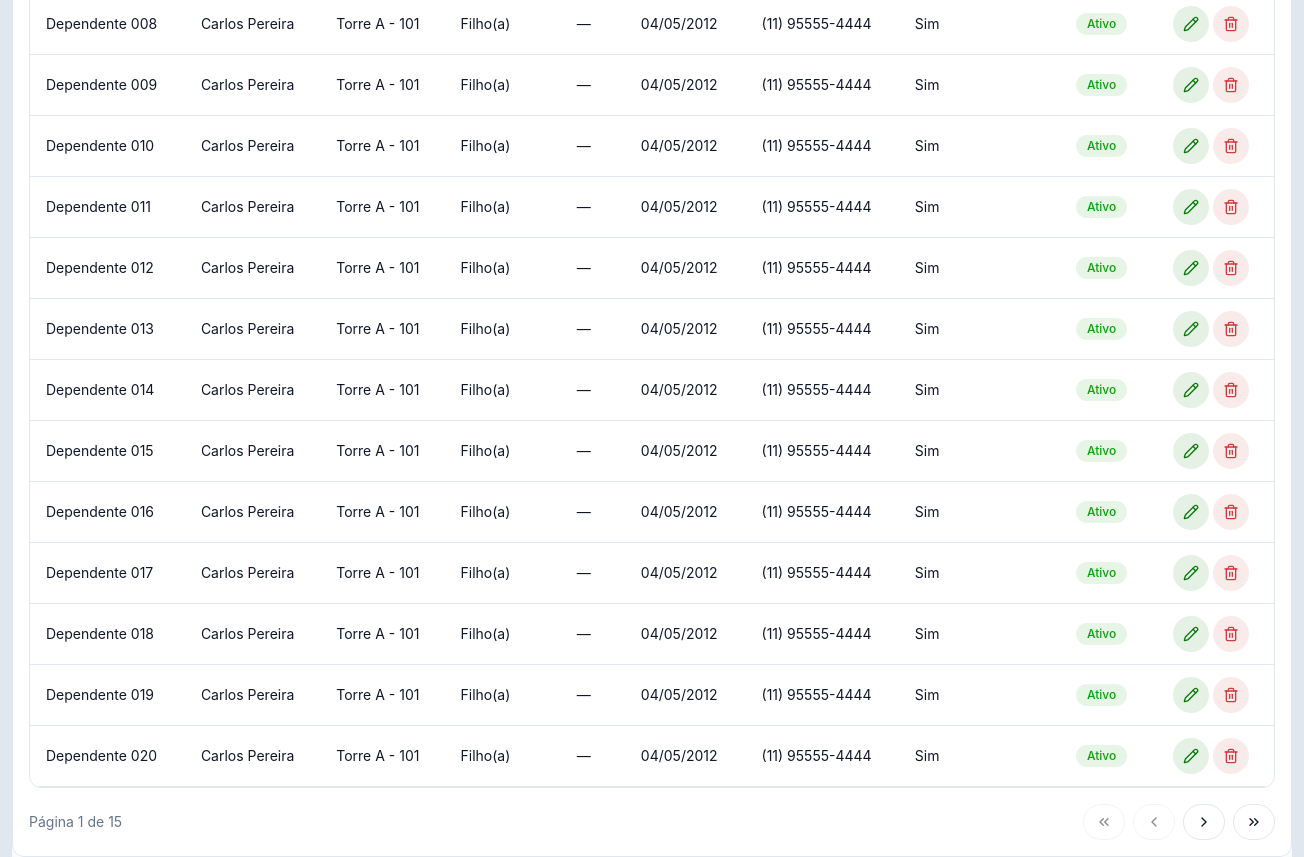
Test: Listagem de dependentes › trezentos dependentes paginam, e a próxima pagina e pedida ao servidor
The image size is (1304, 857).
(page scrolled)
Click the button named "Próxima página" at (1204, 822), box [1183, 804, 1225, 840]
(page scrolled)
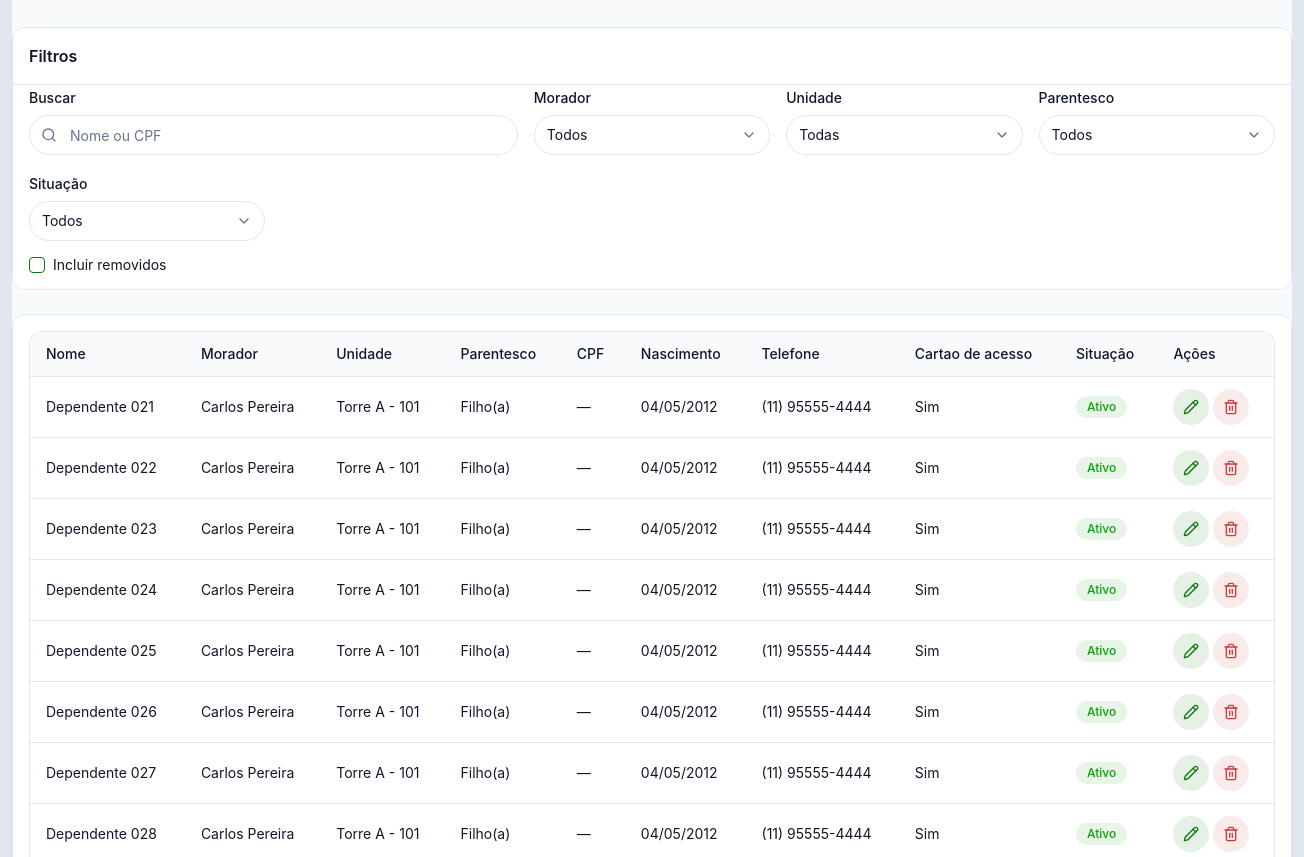
Check: the text "Dependente 021" is shown, box [46, 397, 154, 417]
